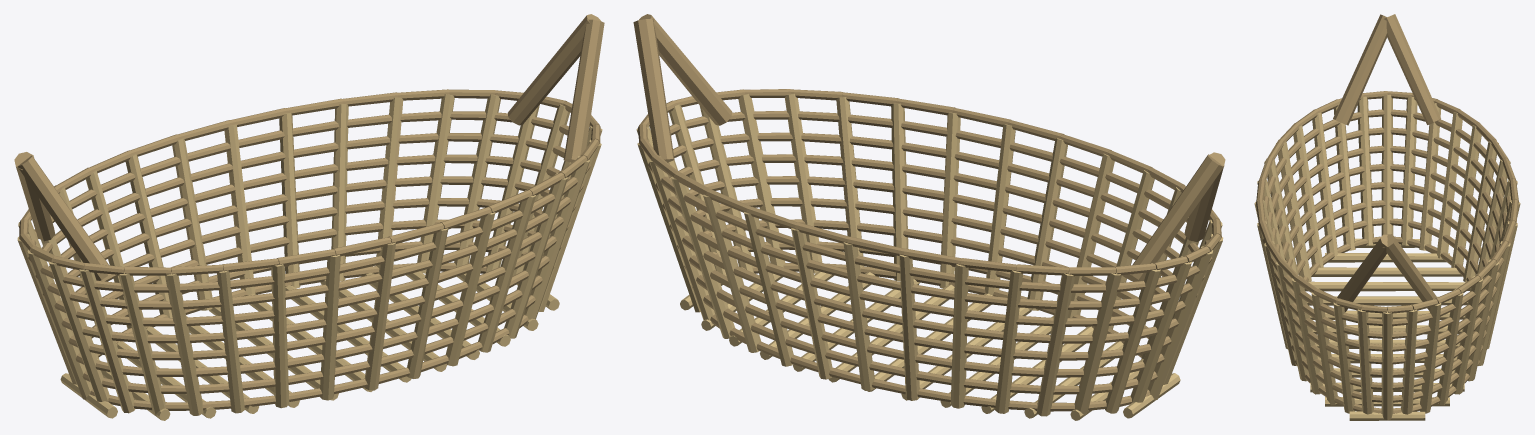
3 renders of one model, left to right at view 1: azimuth 30°, elevation 25°; view 2: azimuth 150°, elevation 25°; view 3: azimuth 270°, elevation 25°, orthographic. The views are drawn at different scales.
Visible parts, largest first — view 1: CE-004 Long woven fish carrying basket batched; view 2: CE-004 Long woven fish carrying basket batched; view 3: CE-004 Long woven fish carrying basket batched.
Boxes of the visible parts, bbox=[...] form: CE-004 Long woven fish carrying basket batched: bbox=[14, 14, 604, 420]; CE-004 Long woven fish carrying basket batched: bbox=[633, 14, 1225, 420]; CE-004 Long woven fish carrying basket batched: bbox=[1254, 14, 1520, 420].
Size of the model in its own units: 1.28 by 0.5435 by 0.6249.
